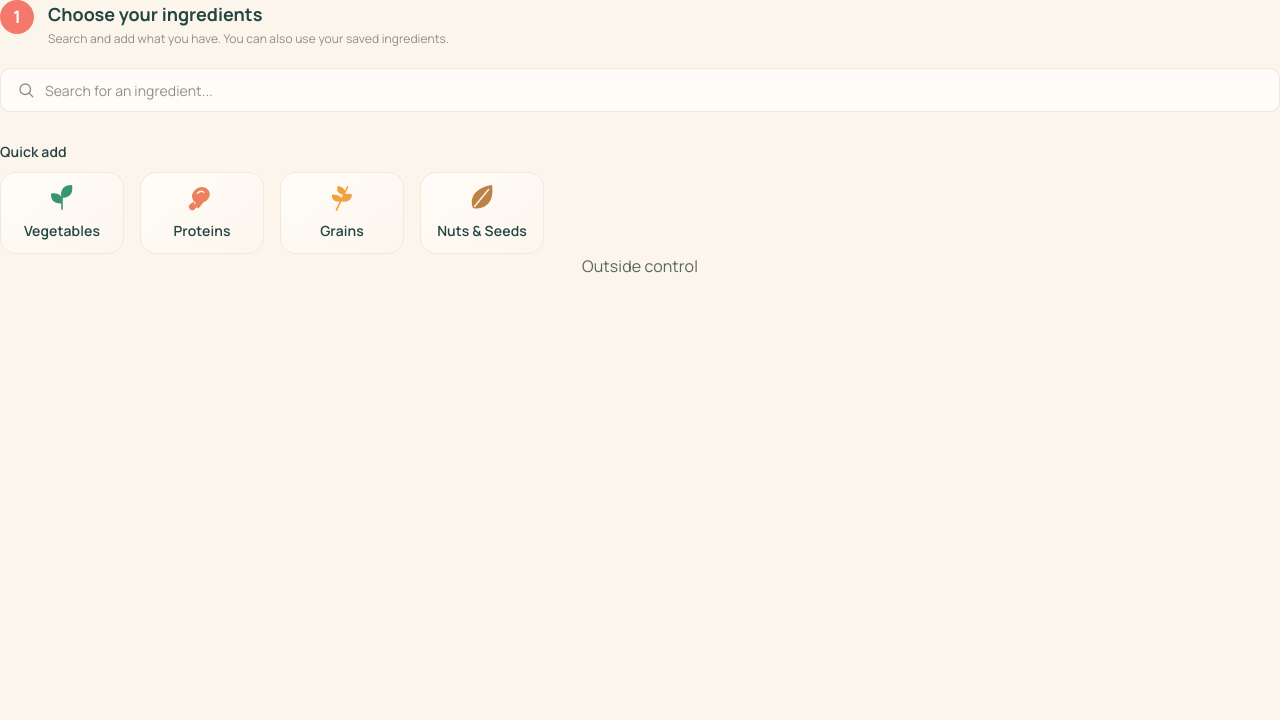
ingredient Quick add integration › uses only existing records, including a useful empty state, without fetching
Click the button "Vegetables": x=62, y=213 [0, 172, 124, 254]
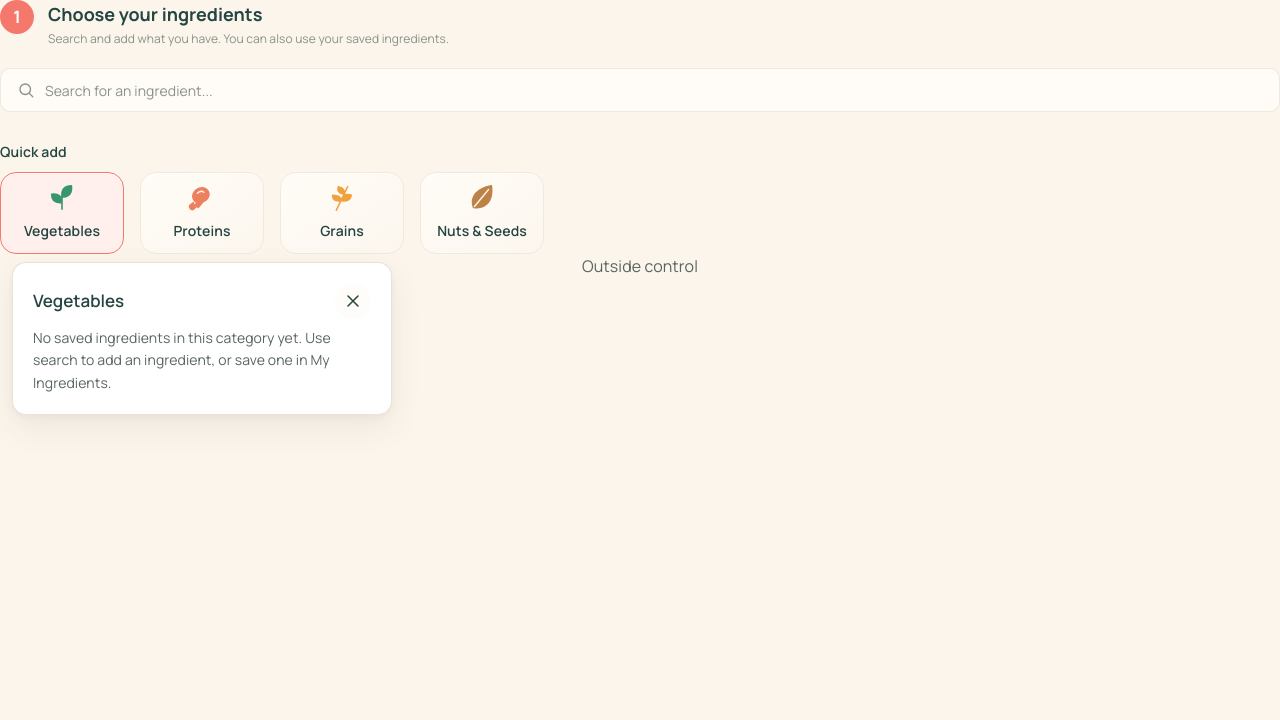
Expected: the text "No saved ingredients" is shown, [33, 328, 331, 392]
